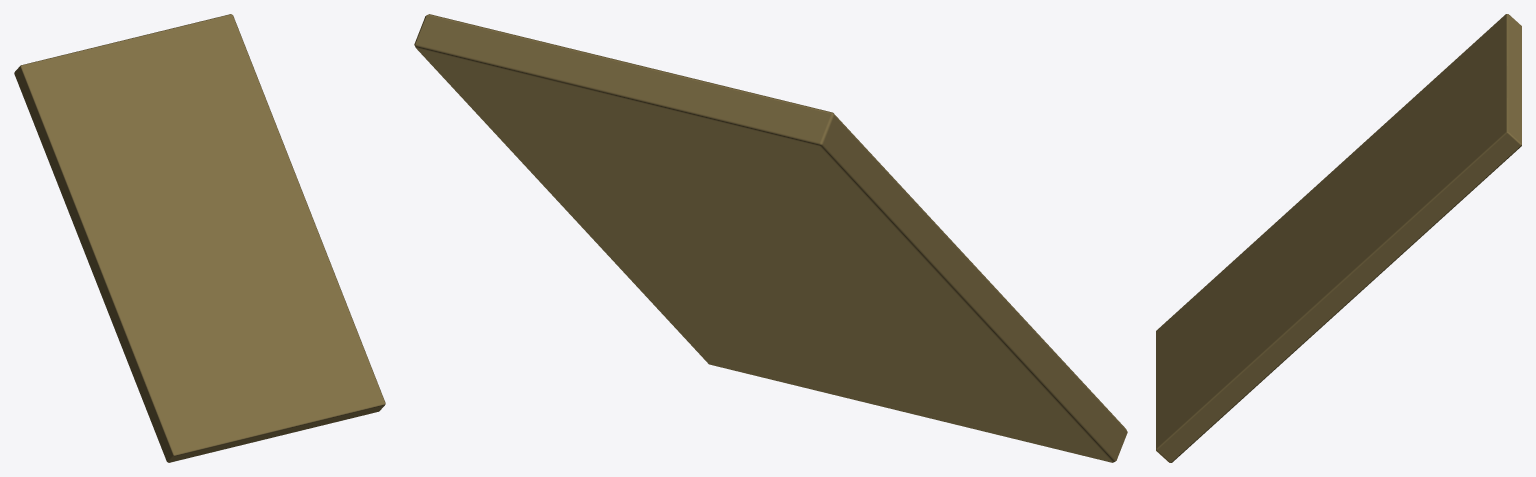
Rendered from village-roof-eave.f7e9c6b7.glb.
The picture shows the model from 3 angles, left to right: view 1: azimuth 30°, elevation 25°; view 2: azimuth 150°, elevation 25°; view 3: azimuth 270°, elevation 25°; orthographic projection. The views are drawn at different scales.
Parts seen in each view (by area): view 1: body; view 2: body; view 3: body.
Boxes of the visible parts, box(x1,y1,x2,y2) form: body: box(14, 14, 385, 462); body: box(414, 14, 1127, 462); body: box(1156, 14, 1521, 462).
Size of the model in its own units: 1 by 1.3 by 1.3.
